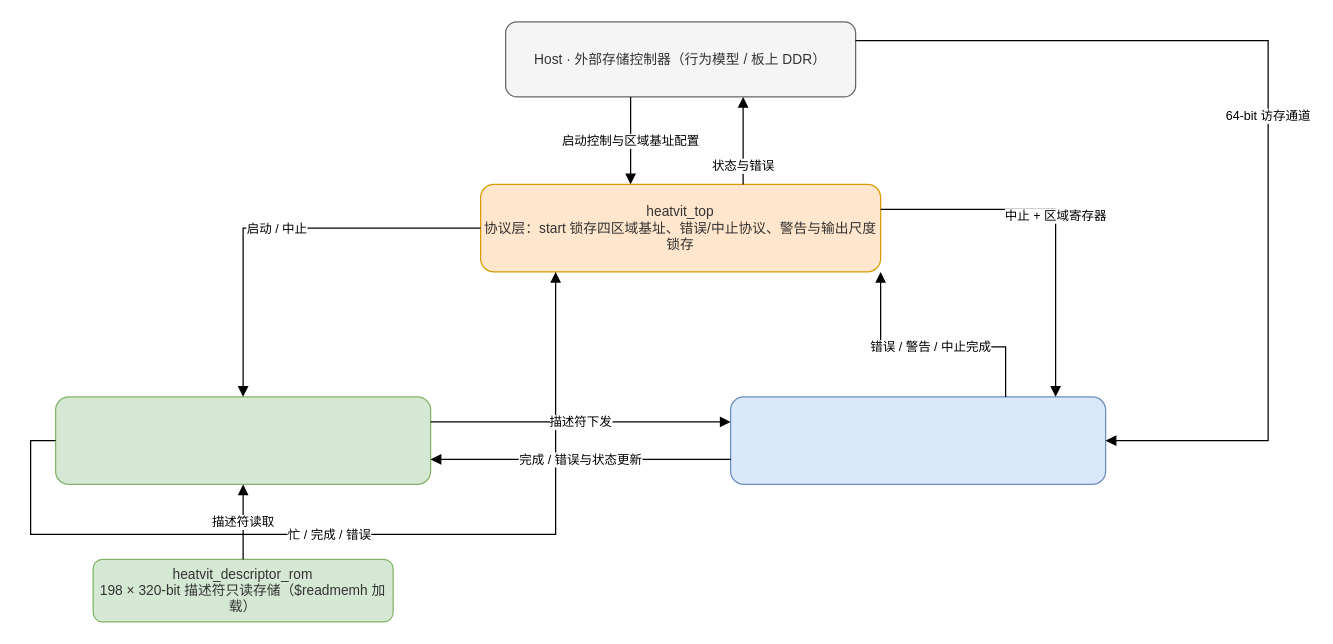
The diagram is 1333 pixels wide and 644 high, and some of its shapes have lost their labels. Here are the shapes that lost their labels. From the top down, the box of each, then its label:
(54, 396, 431, 484): heatvit_scheduler 8 态 FSM 顺序调度 198 条描述符：slot 重定位、K/V 步长补丁、Token 状态维护
(729, 396, 1106, 484): heatvit_tensor_executor 按 opcode 分发单一描述符到 8 个子引擎，区域/地址预检与动态 M/N/K 解析
